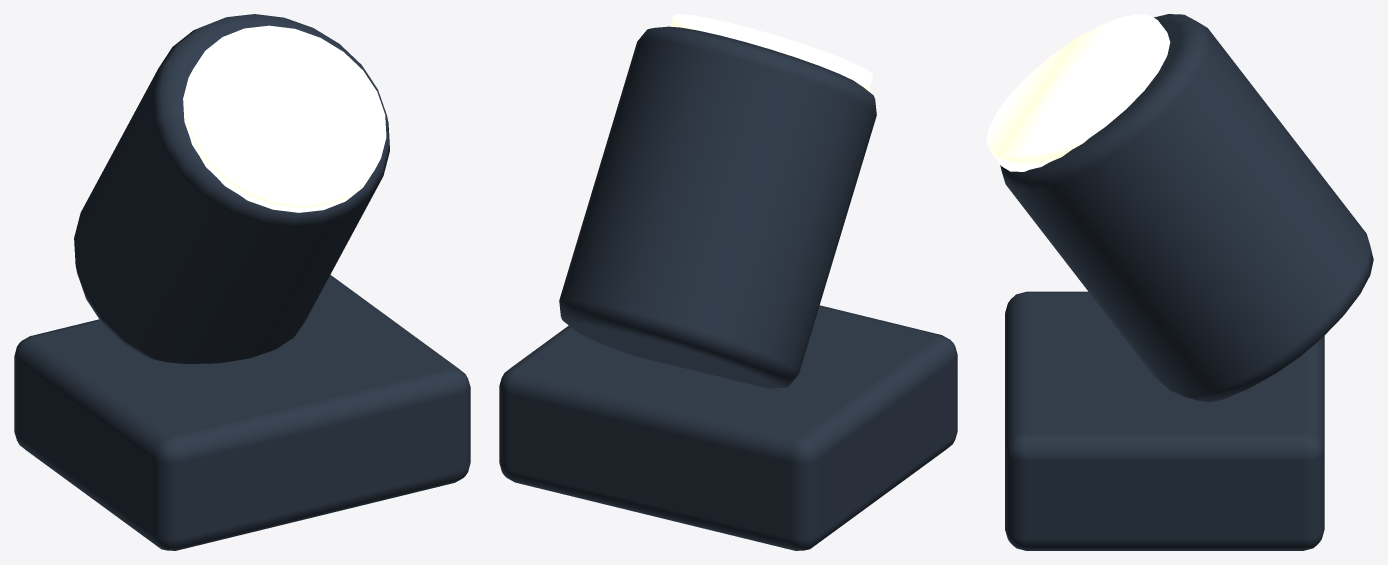
The model's file is spotlight.glb.
3 renders of one model, left to right at view 1: azimuth 30°, elevation 25°; view 2: azimuth 150°, elevation 25°; view 3: azimuth 270°, elevation 25°, orthographic. The views are drawn at different scales.
Parts seen in each view (by area): view 1: spotlight; view 2: spotlight; view 3: spotlight.
Part boxes in pixels (<box>): spotlight: <box>14,14,470,550</box>; spotlight: <box>499,14,957,550</box>; spotlight: <box>986,14,1373,550</box>.
Bounding box in the file's own units: 0.35 × 0.4655 × 0.3638.
